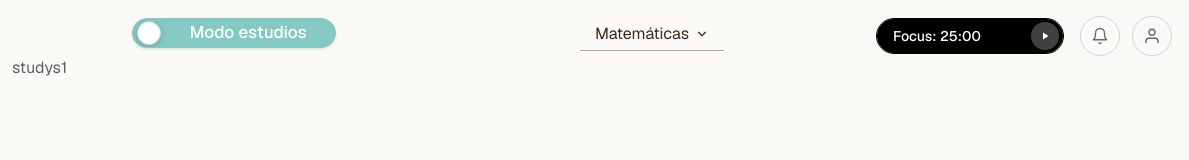
Test: StudentShell › toggles mode in place on /student without navigating
This screenshot has width=1189, height=160.
Expected: the text with test id "mode" reads "study", [12,57,53,78]
Click the switch: (234,33) [132,18,336,48]
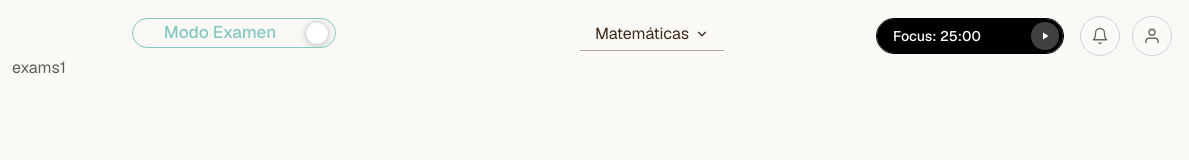
Expected: the text with test id "mode" reads "exam", [12,57,51,78]
